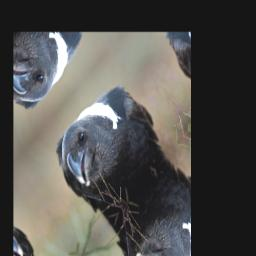Crow: (45, 68, 171, 231)
